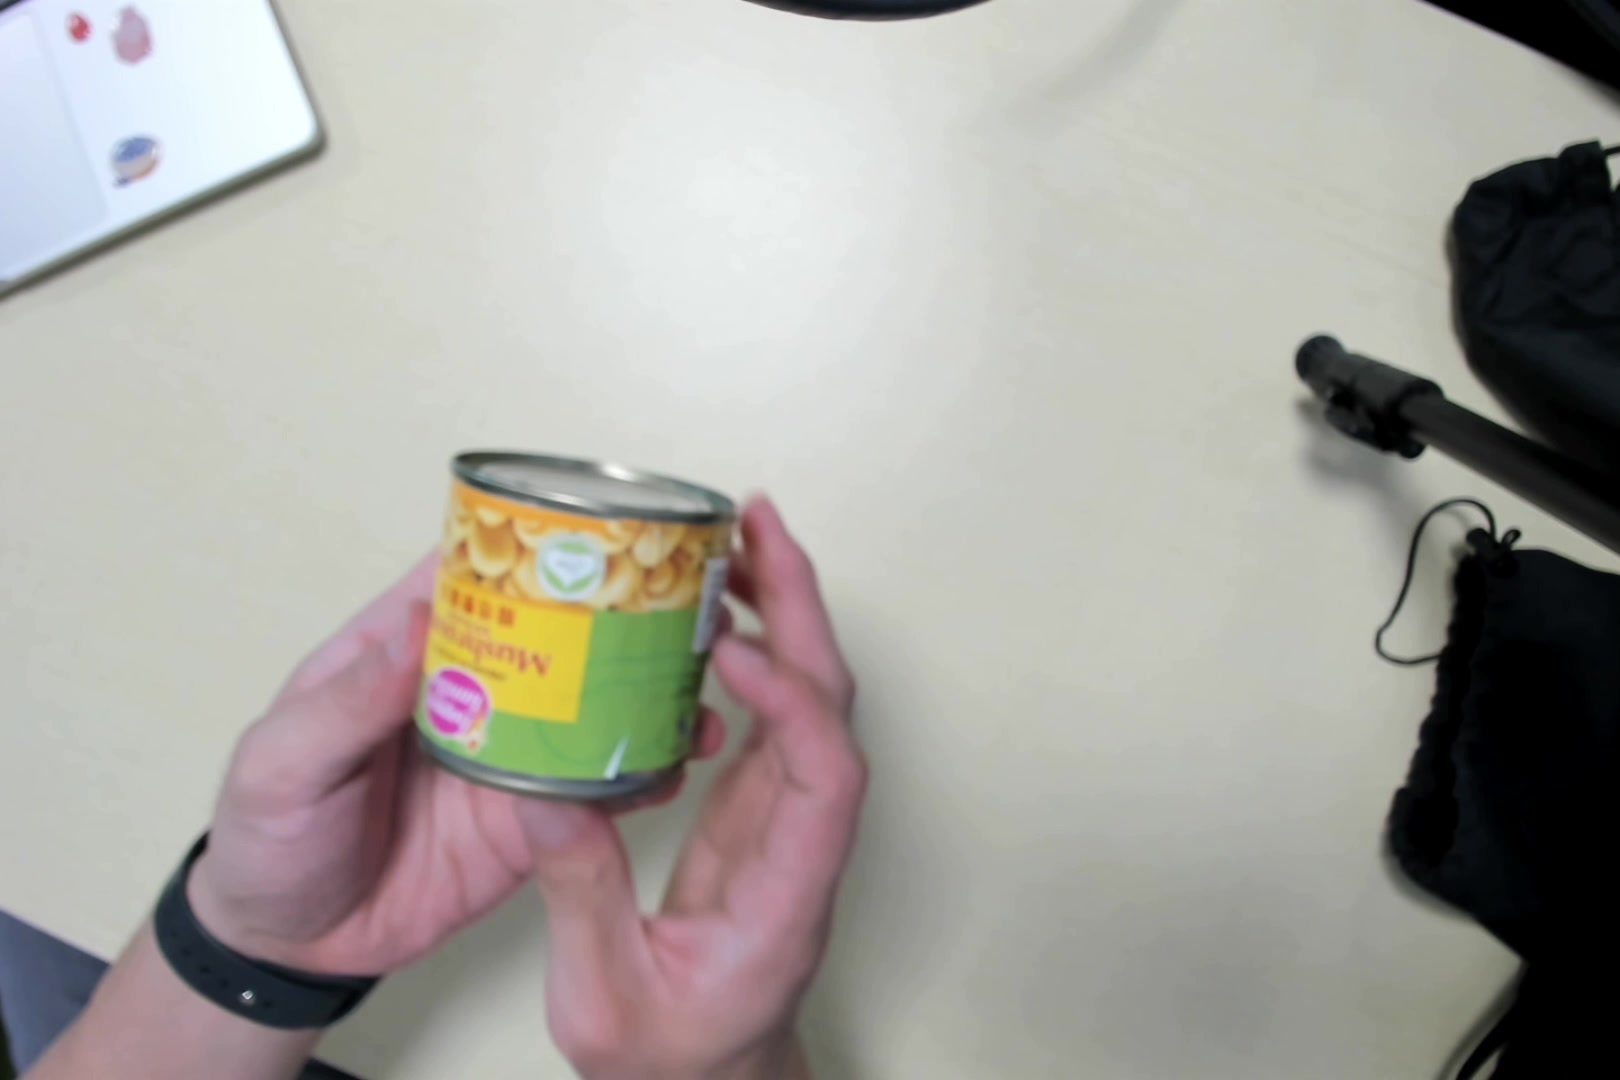CannedMashrooms_100-199g_Halal_NonHealthy: (410, 454, 728, 803)
